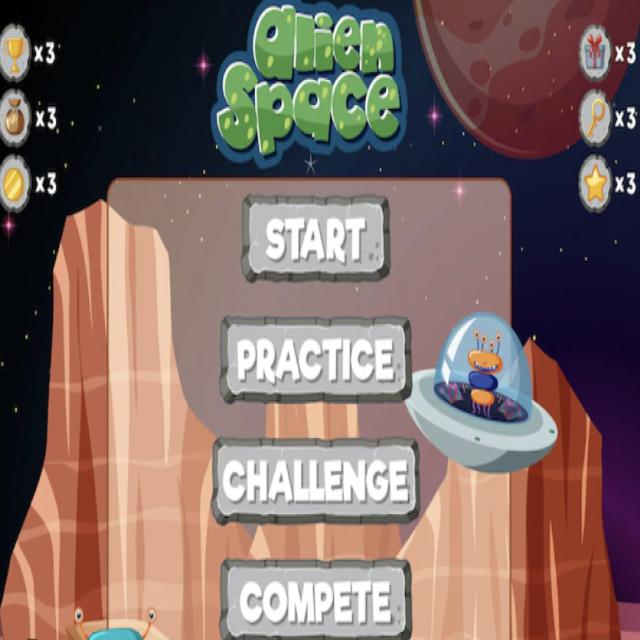Start-button: (245, 198, 388, 278)
